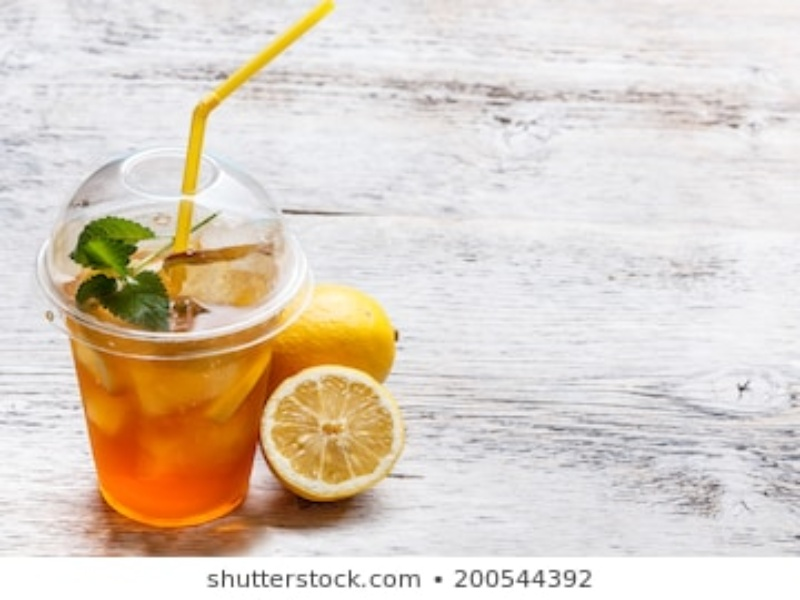plastic-cup: (32, 141, 314, 537)
straw: (168, 2, 338, 308)
